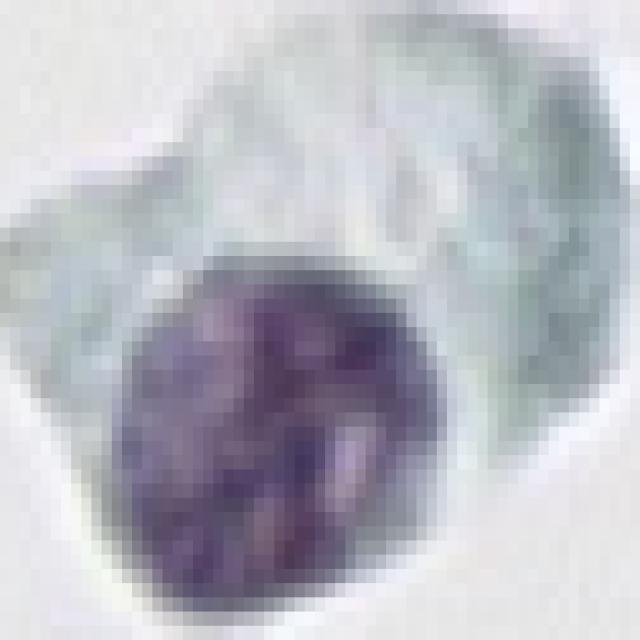nucleus: (103, 250, 454, 607)
